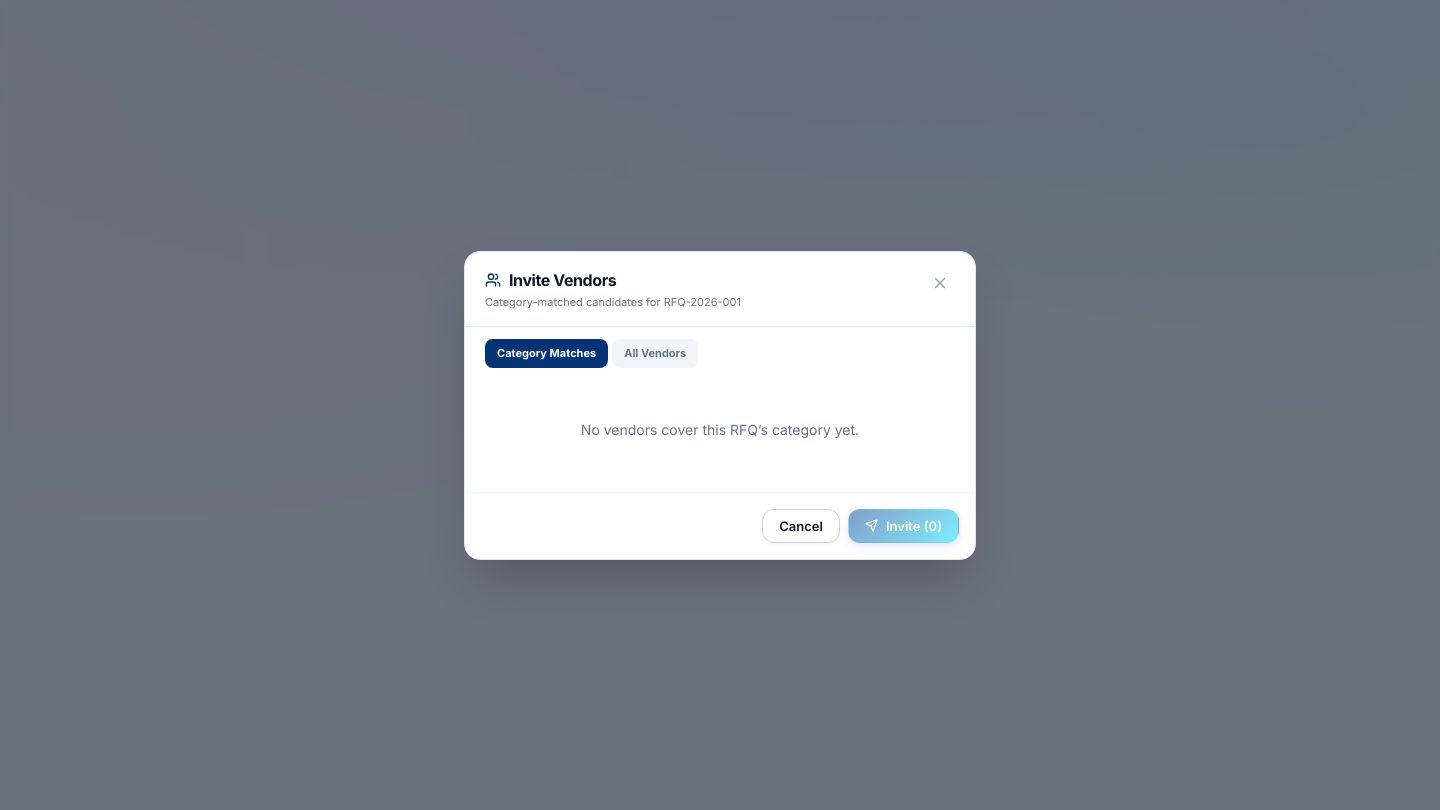
it: InviteVendorsModal — All Vendors tab › sends the search term to the server (debounced) and renders only what it returns
Expected: the text "No vendors cover this RFQ’s category yet." is shown, [581,420,859,438]
Click the button with test id "invite-tab-all".
click(655, 353)  # box [612,339,698,368]
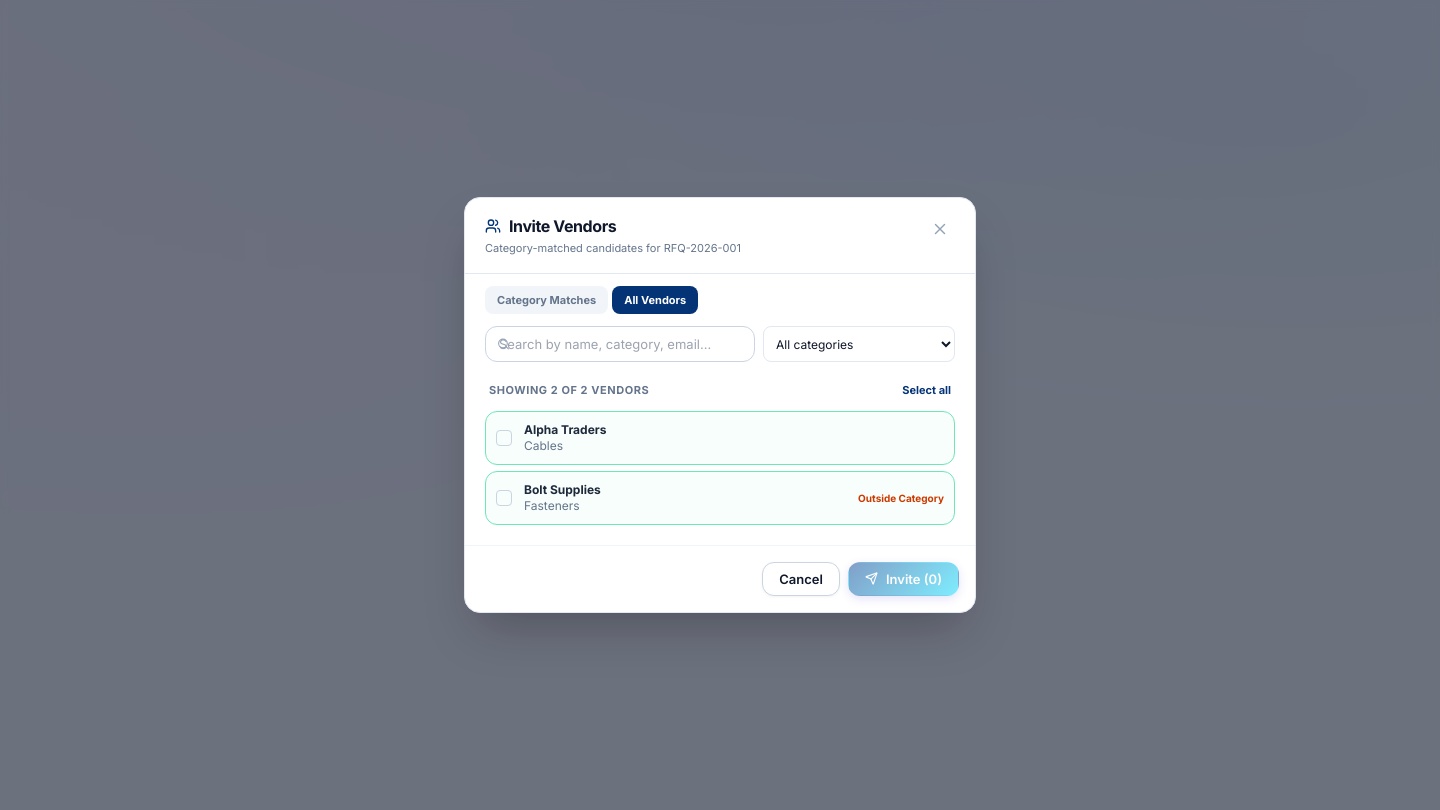
Expected: the text "Alpha Traders" is shown, [524,422,606,437]
Expected: the text "Bolt Supplies" is shown, [524,482,601,497]
Type "bolt" into the field with placeholder "Search by name, category, email…".
click(620, 344); type("bolt")  # box [485,326,755,362]
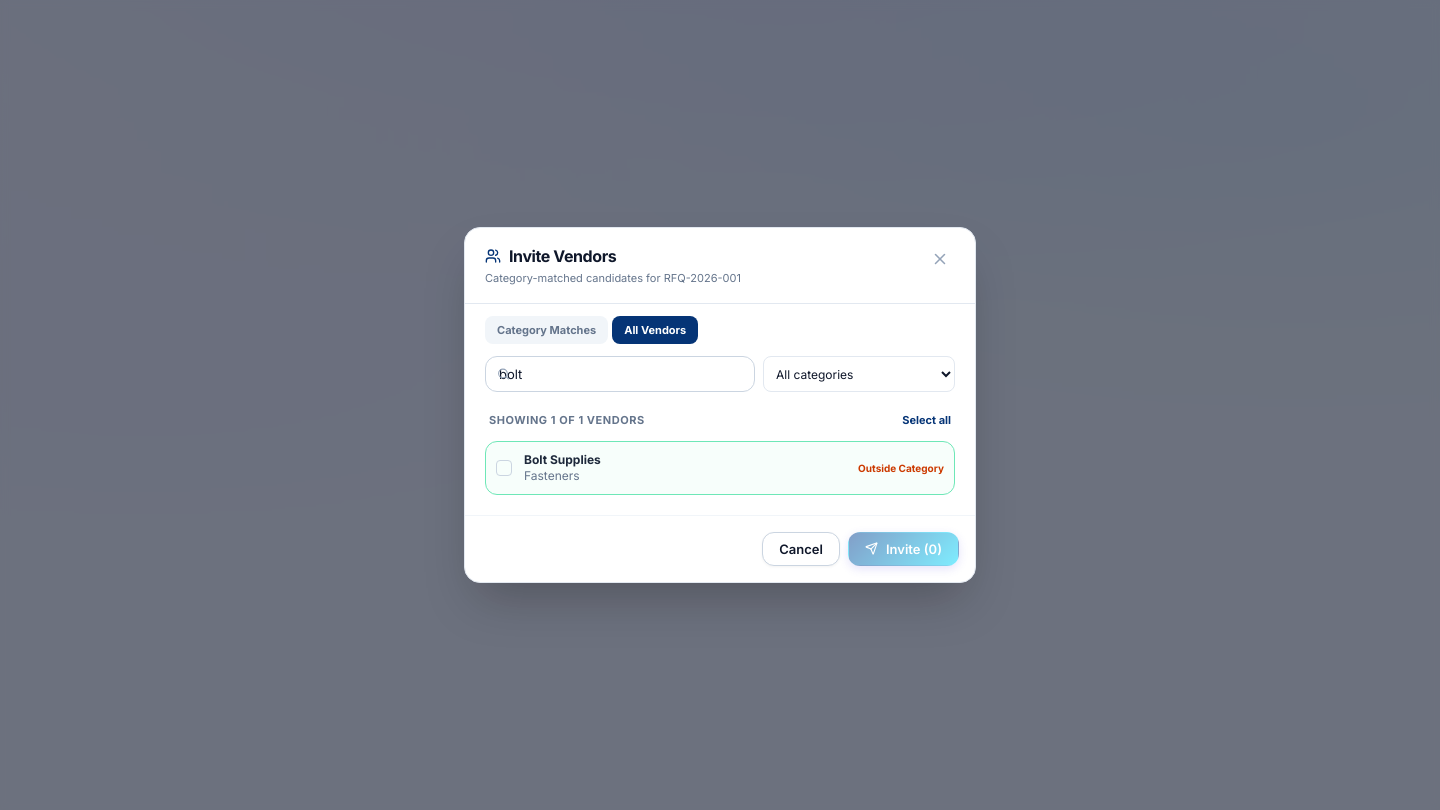
Expected: the text "Bolt Supplies" is shown, [524,452,601,467]
Expected: the text "Alpha Traders" is gone
Replace the text in the field with placeholder "Search by name, category, email…" with "copper" at [620, 374], box [485,356,755,392]
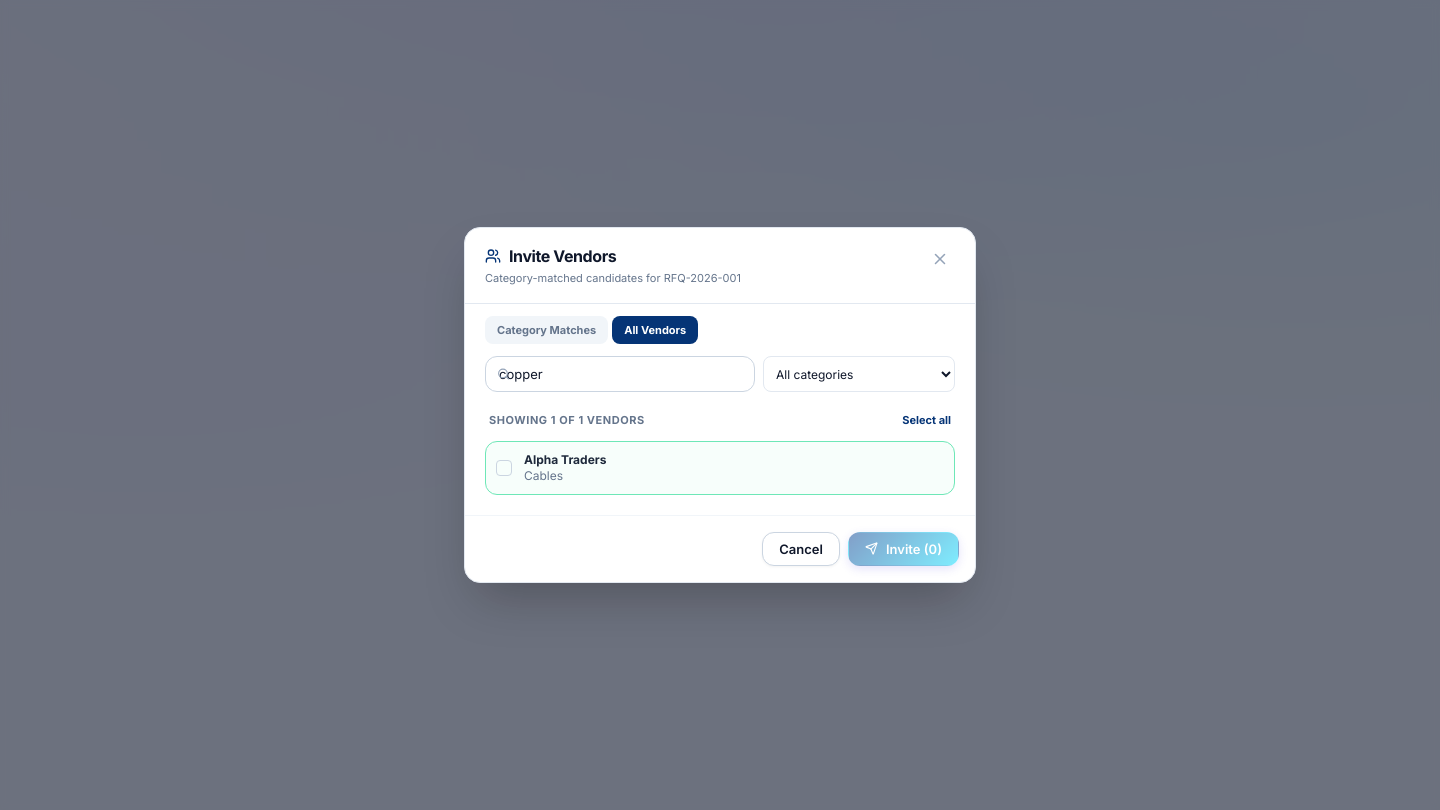
Expected: the text "Alpha Traders" is shown, [524,452,606,467]
Expected: the text "Bolt Supplies" is gone
Replace the text in the field with placeholder "Search by name, category, email…" with "y.com" at [620, 374], box [485,356,755,392]
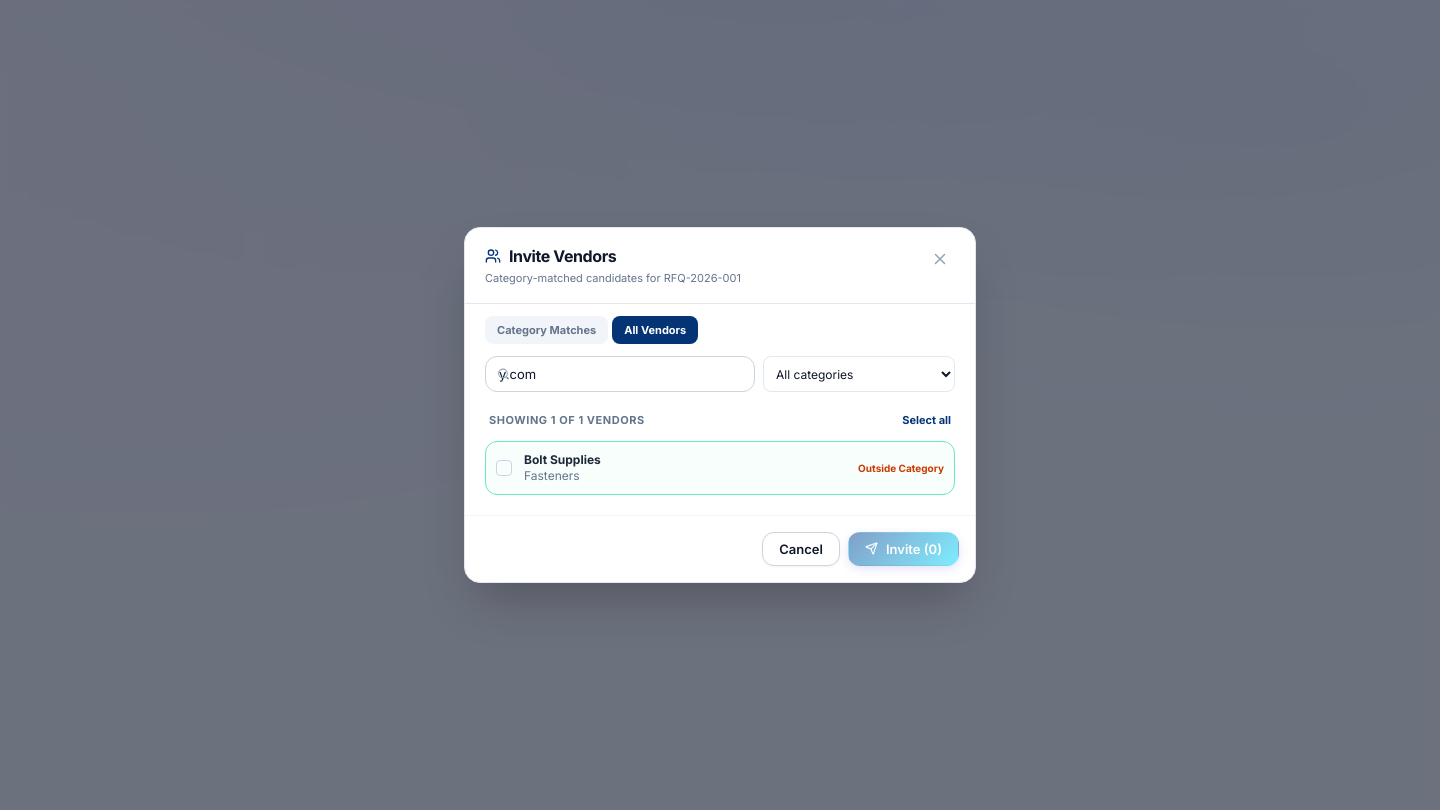
Expected: the text "Bolt Supplies" is shown, [524,452,601,467]
Expected: the text "Alpha Traders" is gone
Clear the field with placeholder "Search by name, category, email…" at [620, 374], box [485,356,755,392]
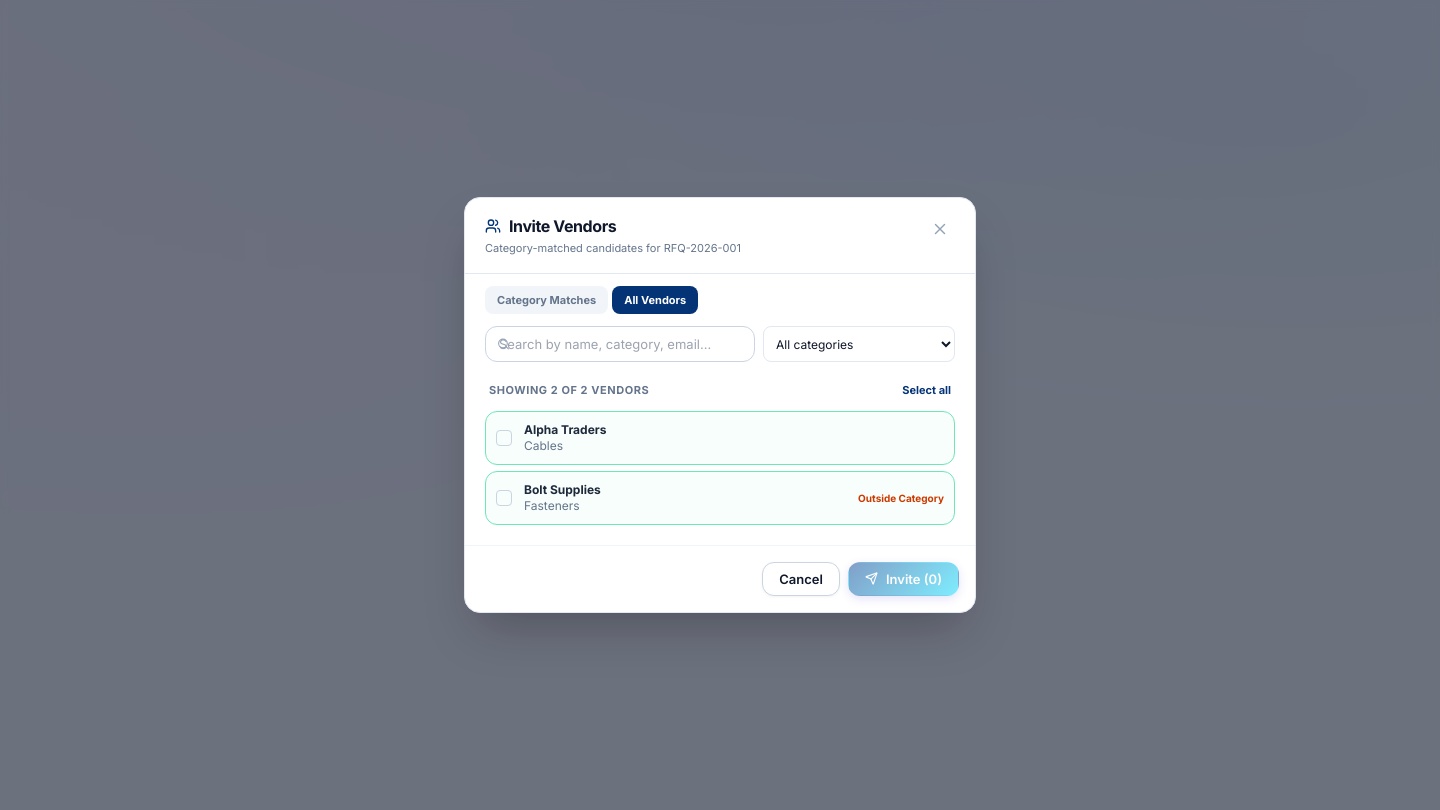
Expected: the text "Bolt Supplies" is shown, [524,482,601,497]
Expected: the text "Alpha Traders" is shown, [524,422,606,437]
